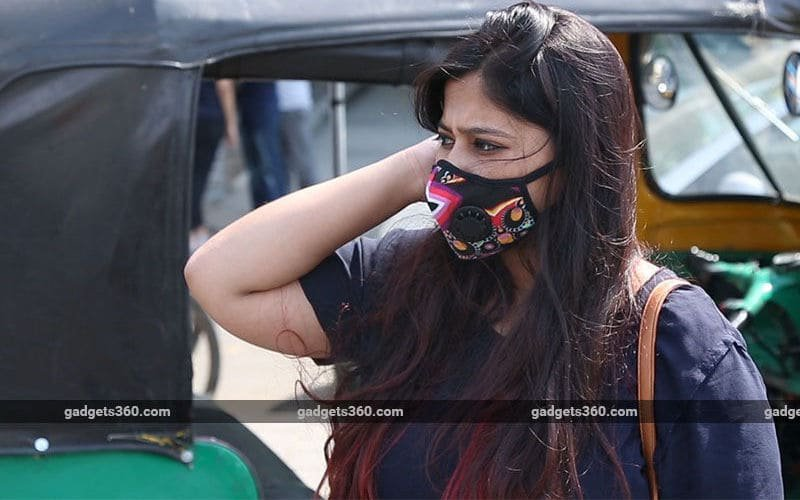mask: (394, 2, 610, 273)
